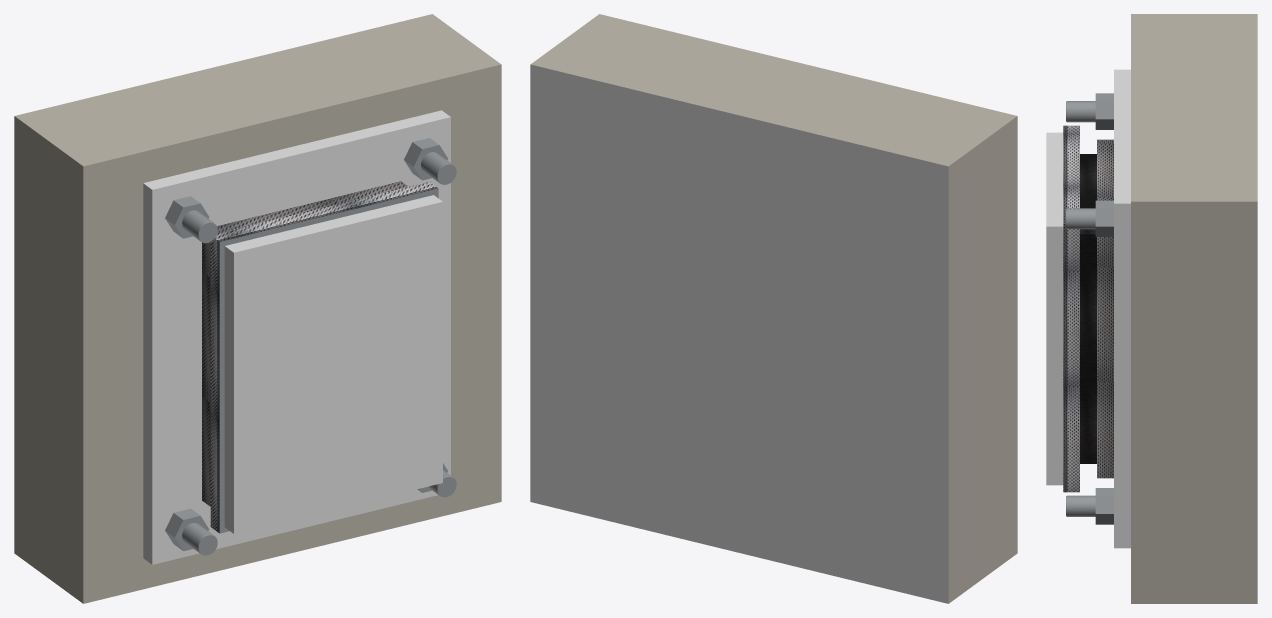
Rendered from bearing_43.obj.
3 renders of one model, left to right at view 1: azimuth 30°, elevation 25°; view 2: azimuth 150°, elevation 25°; view 3: azimuth 270°, elevation 25°, orthographic. The views are drawn at different scales.
Visible parts, largest first — view 1: _8, Color_001, _2, Metal_Rough; view 2: Color_001, _8; view 3: _8, Color_001, _2, _5, Metal_Rough.
Boxes of the visible parts, bbox=[...] form: _8: bbox=[14, 14, 501, 603]; Color_001: bbox=[143, 110, 450, 564]; _2: bbox=[202, 181, 438, 533]; Metal_Rough: bbox=[165, 138, 456, 555]; Color_001: bbox=[530, 64, 948, 603]; _8: bbox=[531, 14, 1017, 603]; _8: bbox=[1131, 14, 1257, 603]; Color_001: bbox=[1046, 69, 1130, 548]; _2: bbox=[1063, 125, 1113, 492]; _5: bbox=[1080, 154, 1096, 463]; Metal_Rough: bbox=[1066, 93, 1113, 524].
Bounding box in the file's own units: 0.7564 × 0.7564 × 0.3602.
